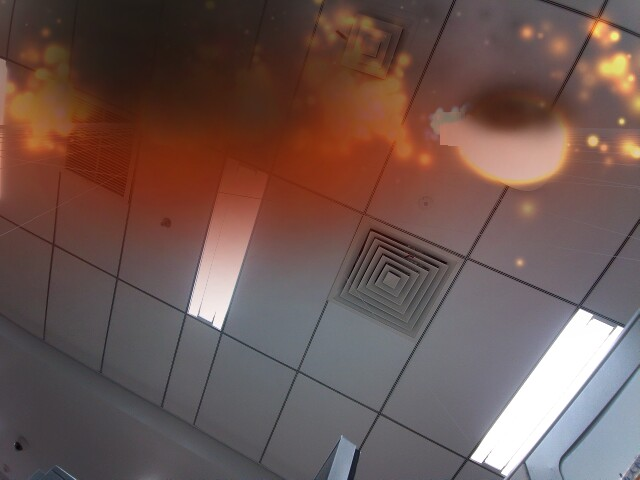fire: (463, 90, 573, 187)
